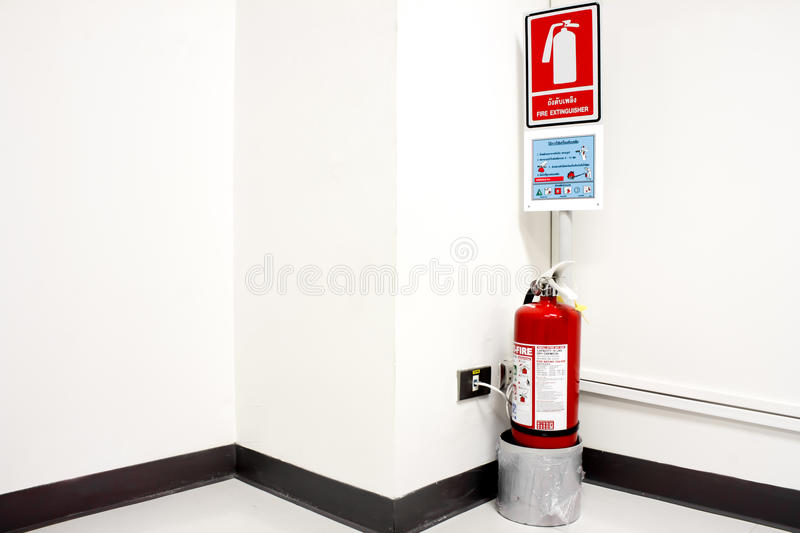fire_extinguisher: (506, 260, 586, 450)
